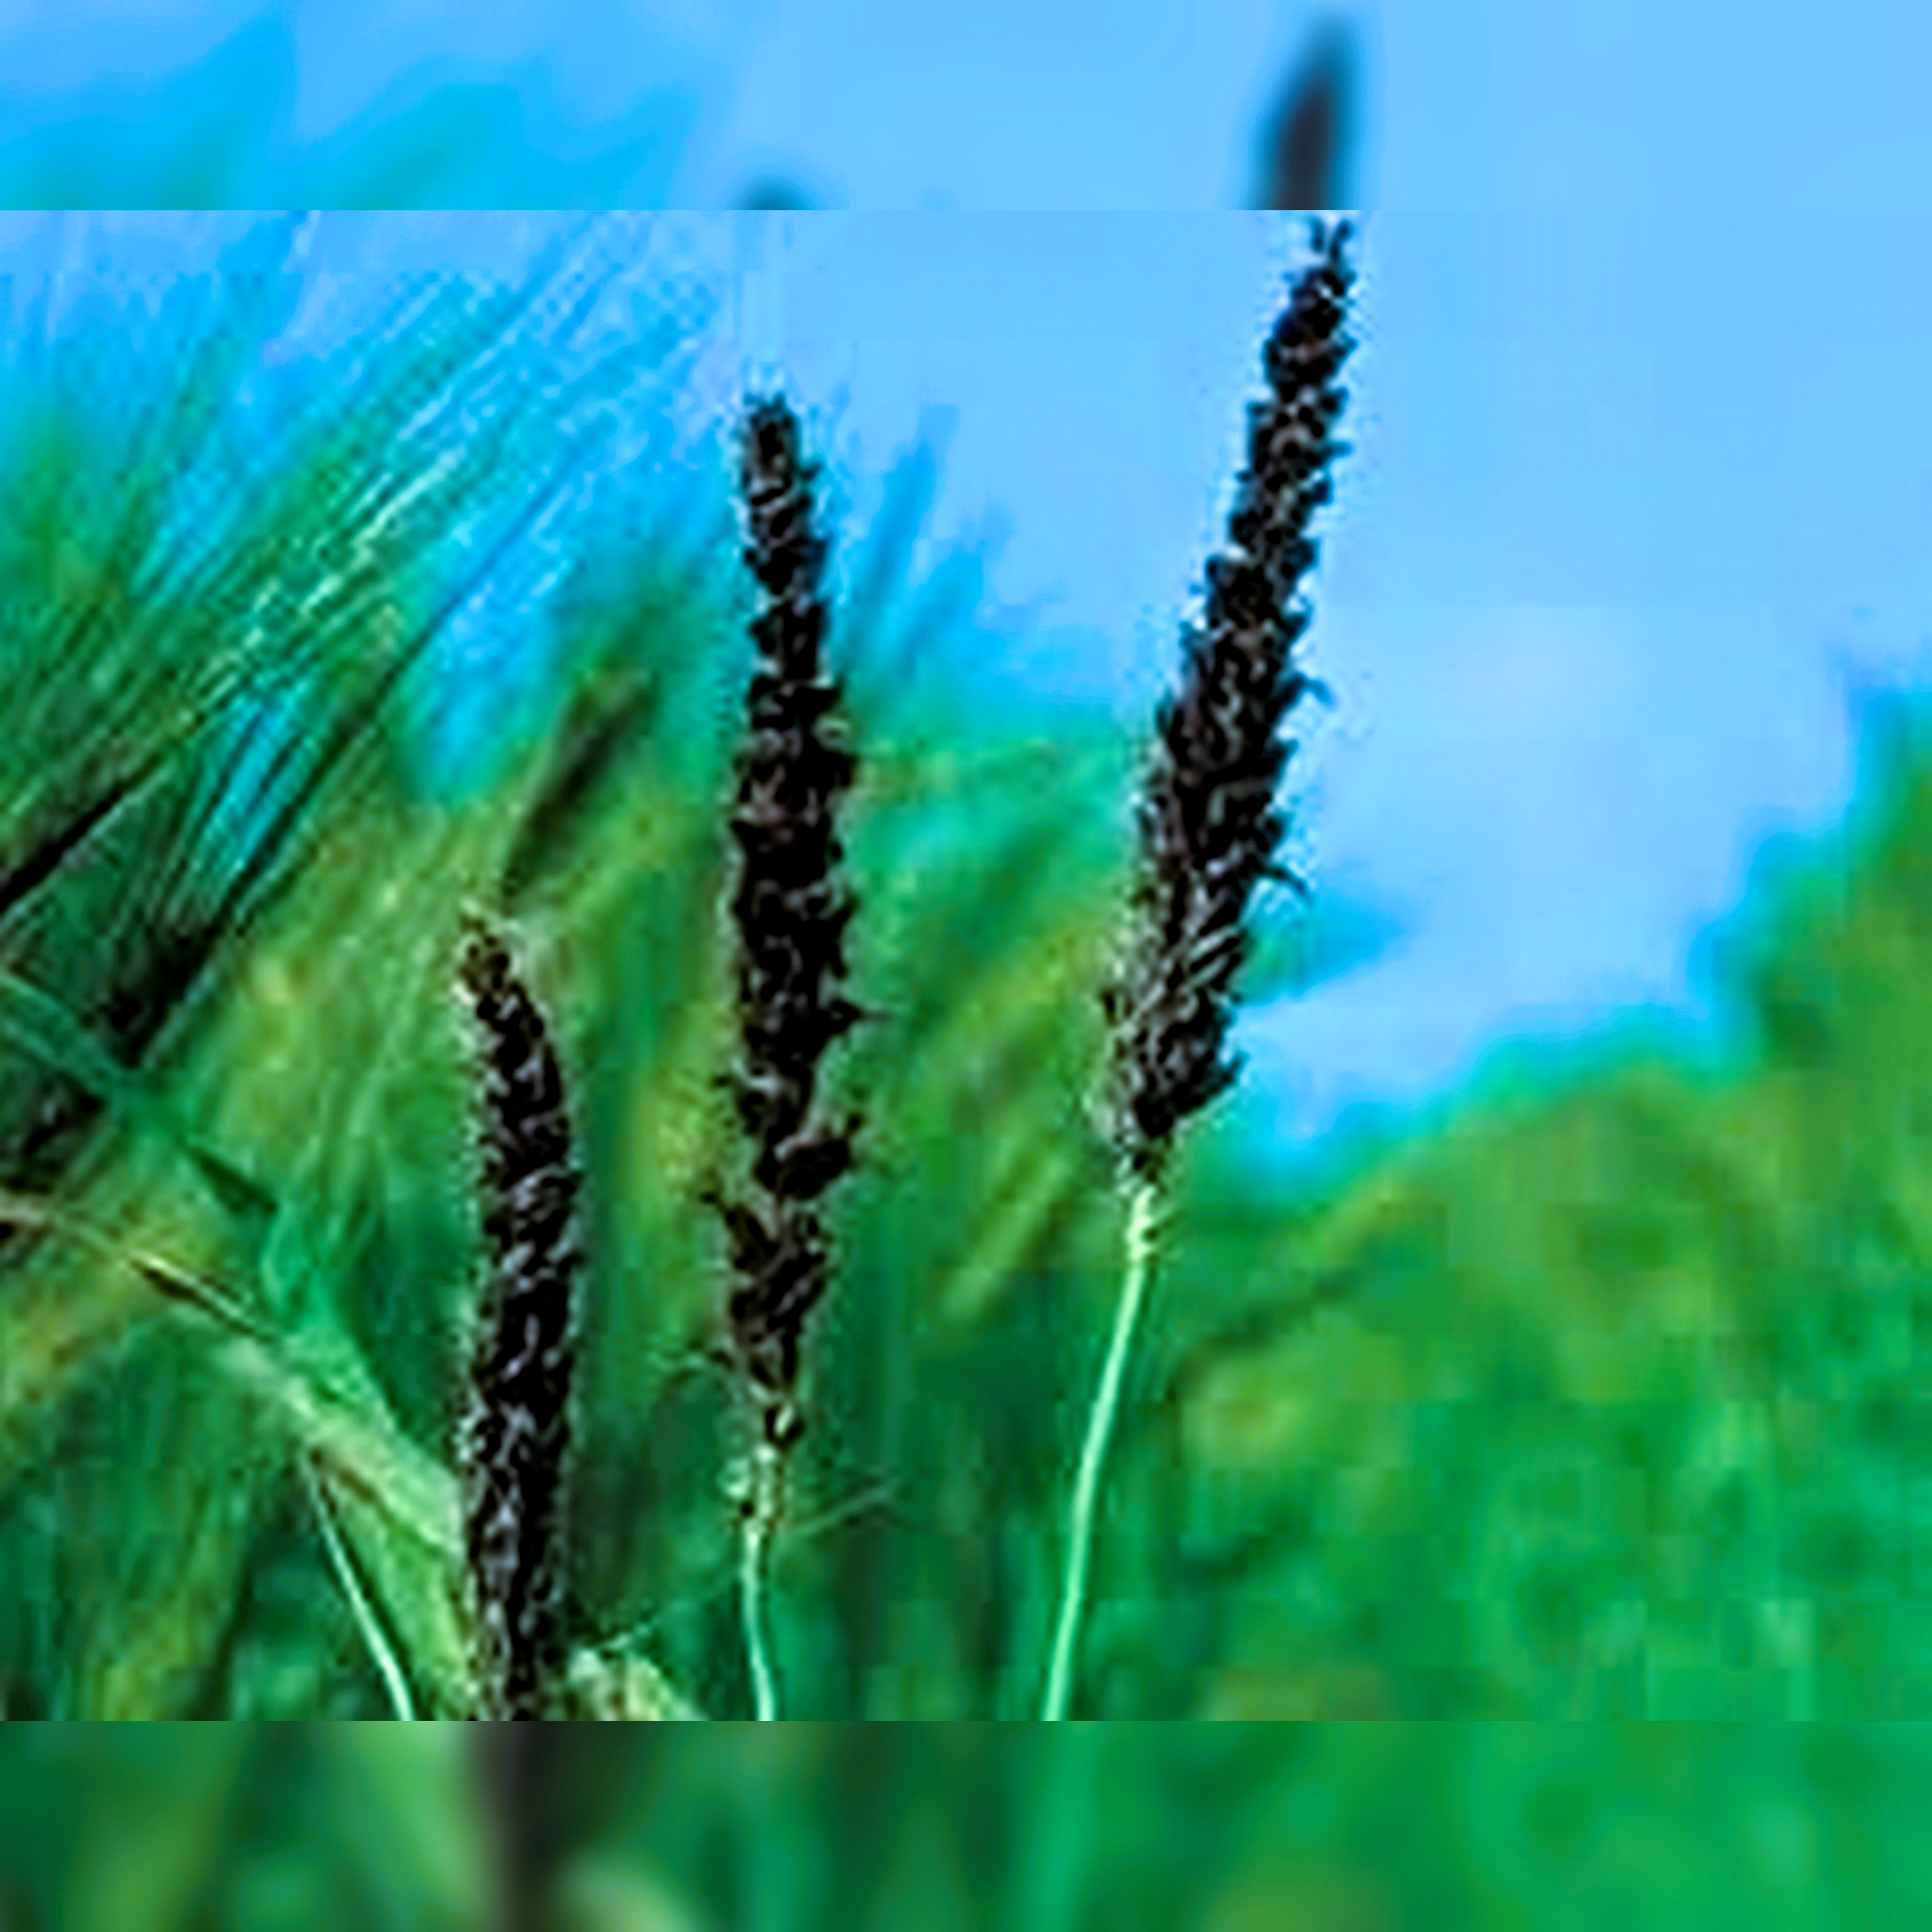Wheat Loose Smut: (1063, 211, 1415, 1154)
